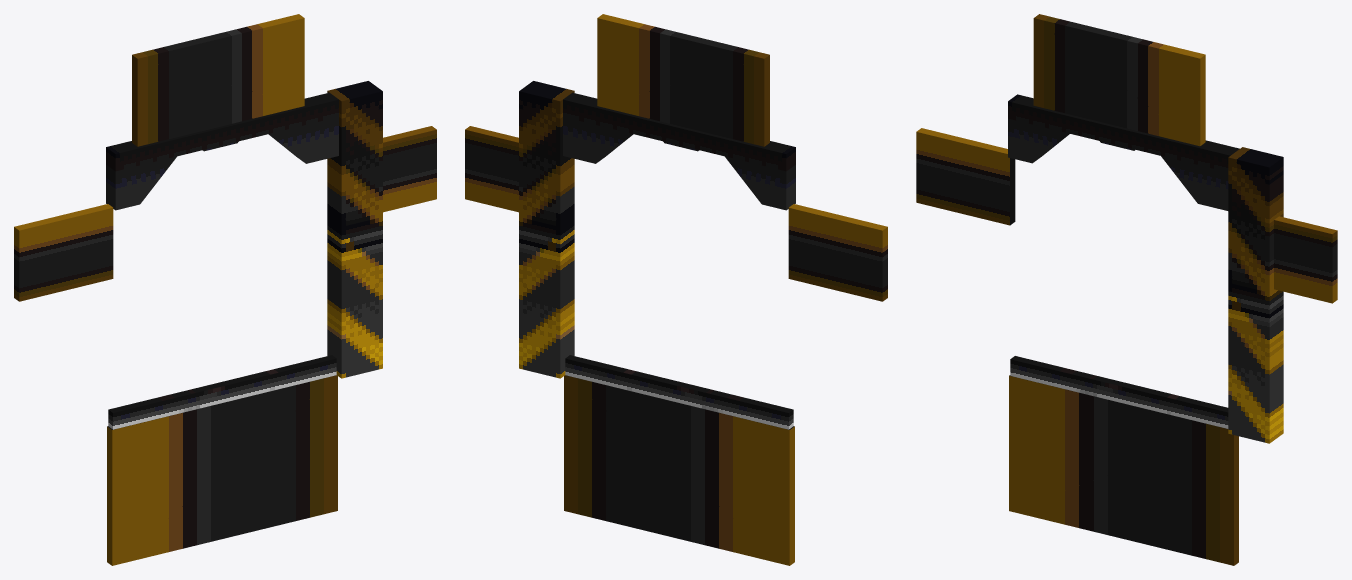
File: door_wall3.fbx
The picture shows the model from 3 angles, left to right: view 1: azimuth 30°, elevation 25°; view 2: azimuth 150°, elevation 25°; view 3: azimuth 330°, elevation 25°; orthographic projection.
Parts seen in each view (by area): view 1: door_wall3.002, door_wall3; view 2: door_wall3.002, door_wall3; view 3: door_wall3.002, door_wall3.
Boxes of the visible parts, box(x1,y1,x2,y2) form: door_wall3.002: box(14, 14, 436, 565); door_wall3: box(108, 355, 336, 429); door_wall3.002: box(465, 14, 887, 565); door_wall3: box(565, 355, 793, 429); door_wall3.002: box(916, 14, 1337, 565); door_wall3: box(1010, 356, 1228, 428).
Bounding box in the file's own units: 404 × 463 × 24.
